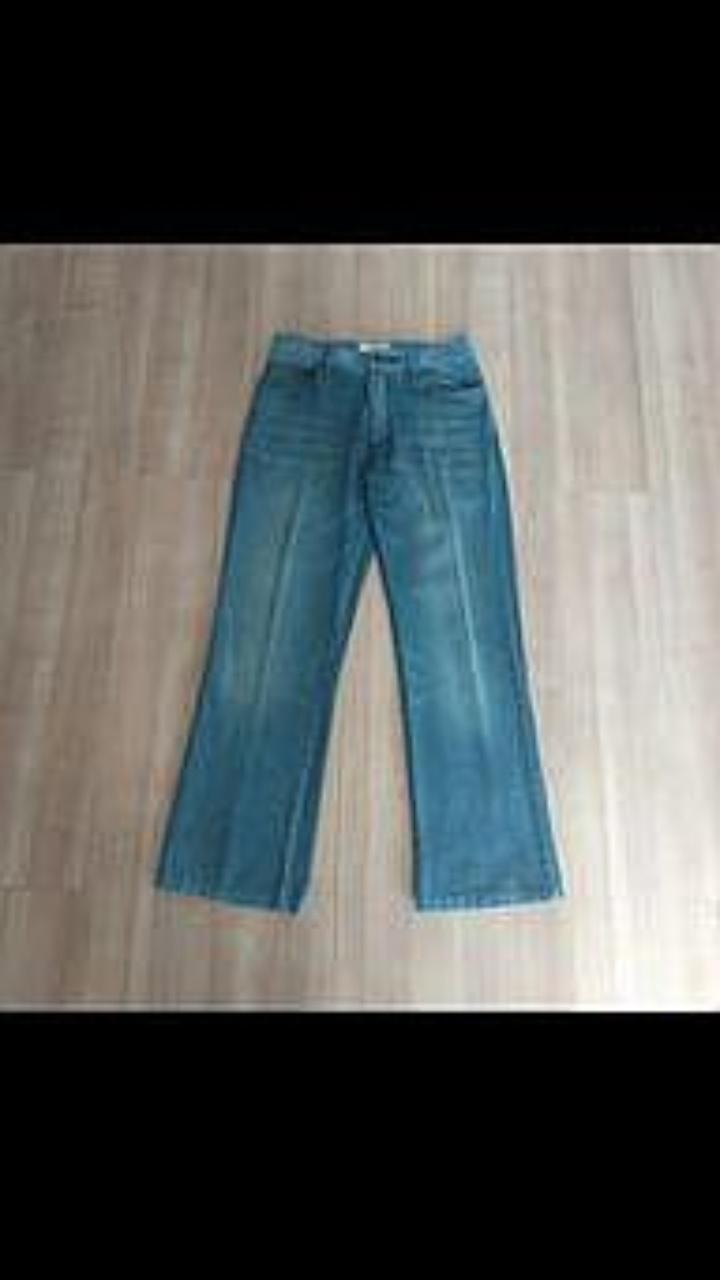Jeans: (156, 333, 563, 911)
